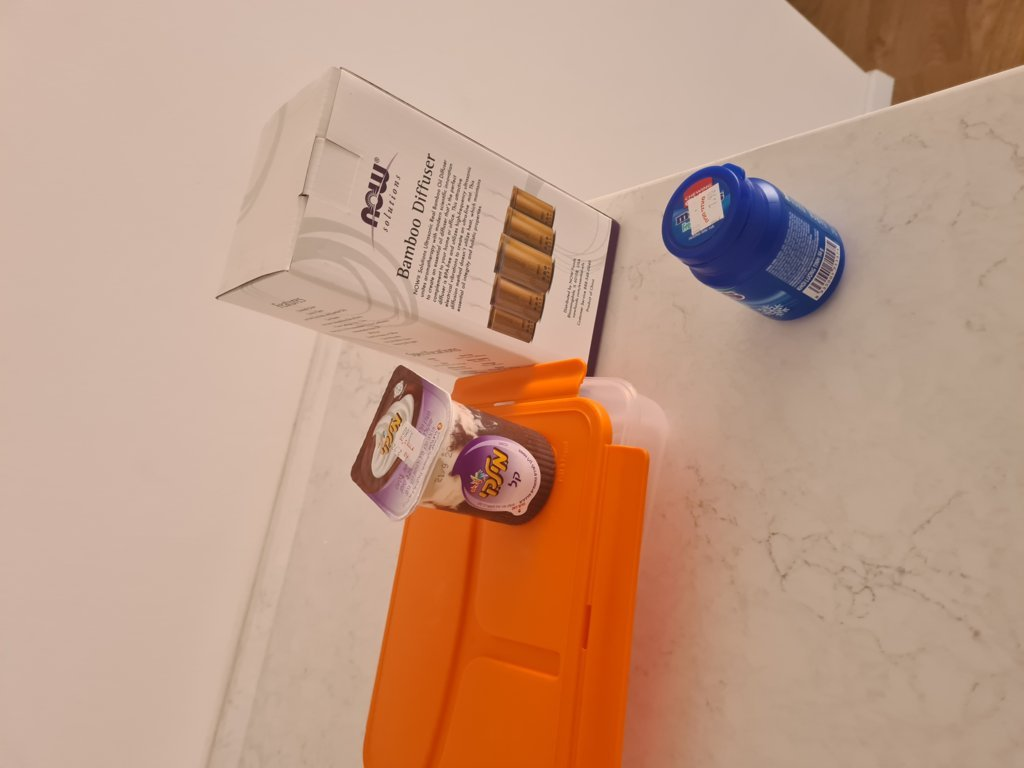milky: (348, 360, 559, 524)
